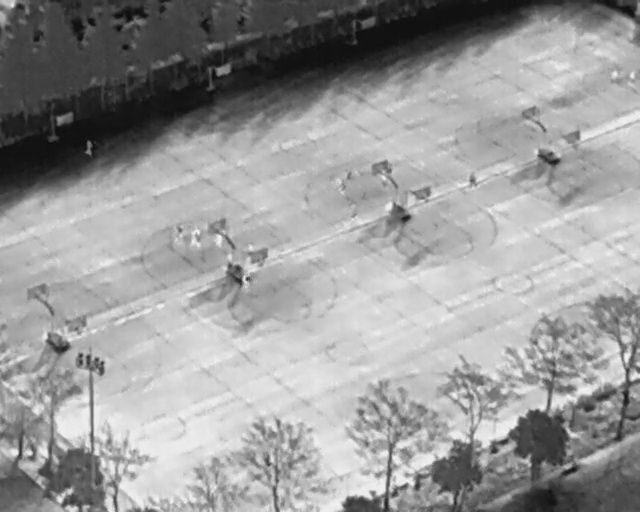Person: (173, 223, 185, 246), (190, 226, 203, 247), (213, 228, 224, 249), (83, 140, 94, 158), (379, 169, 390, 187), (334, 177, 346, 193), (241, 274, 251, 291), (468, 172, 478, 189), (246, 242, 255, 260), (226, 253, 235, 269), (610, 71, 620, 85), (629, 70, 636, 87)
